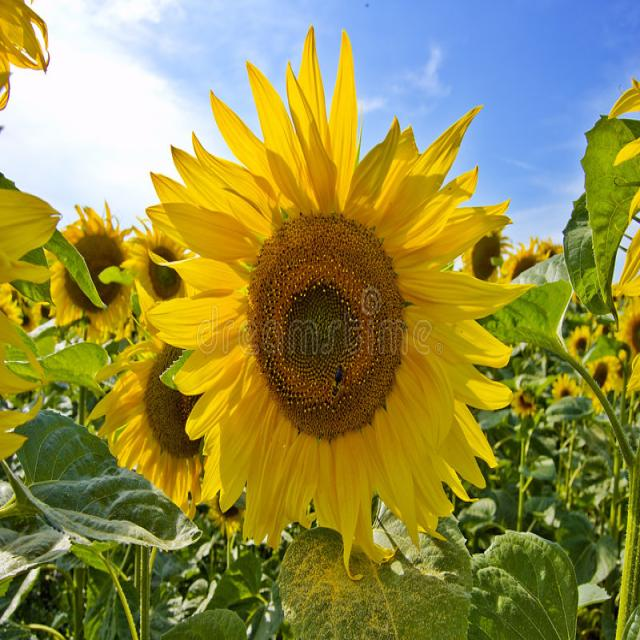sunflower: (136, 22, 525, 595), (37, 189, 144, 340)
